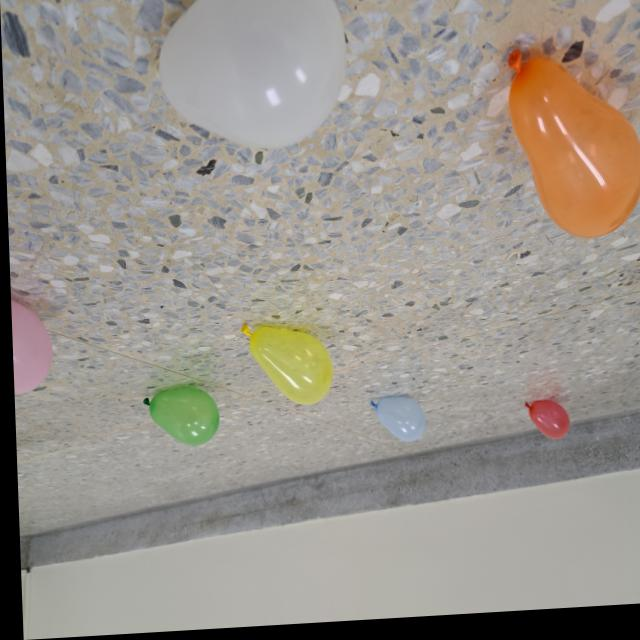other: (148, 0, 349, 160), (503, 49, 640, 250), (239, 319, 331, 413), (139, 384, 217, 454), (8, 281, 52, 396), (365, 399, 424, 450)
red: (521, 404, 568, 448)
